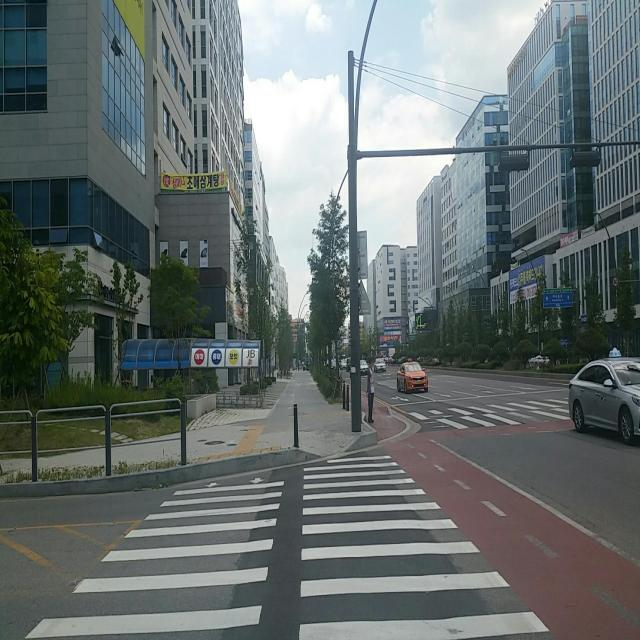횡단보도: (24, 453, 551, 640), (405, 384, 569, 426)
